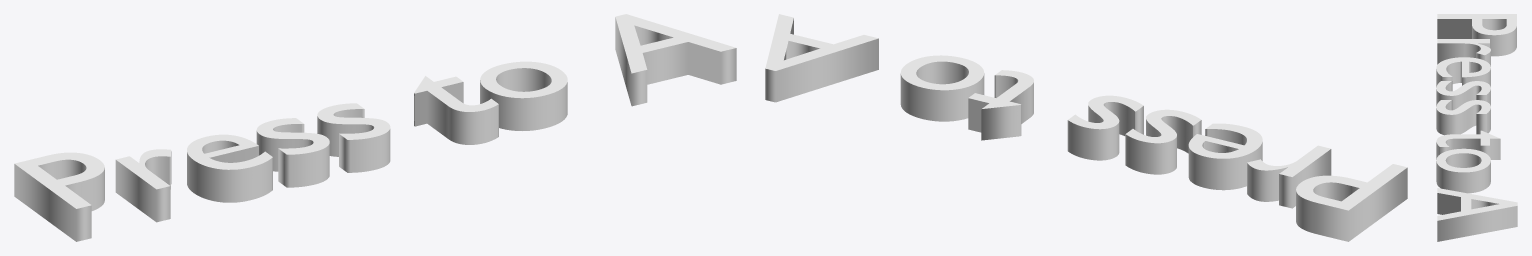
Rendered from PressToA.gltf.
The picture shows the model from 3 angles, left to right: view 1: azimuth 30°, elevation 25°; view 2: azimuth 150°, elevation 25°; view 3: azimuth 270°, elevation 25°; orthographic projection. The views are drawn at different scales.
Parts seen in each view (by area): view 1: テキスト; view 2: テキスト; view 3: テキスト.
Boxes of the visible parts, box(x1,y1,x2,y2) form: テキスト: box(14, 14, 736, 241); テキスト: box(765, 14, 1407, 241); テキスト: box(1436, 14, 1517, 241).
Bounding box in the file's own units: 4.19 × 0.2 × 0.695.
1 material, 1 textured.
